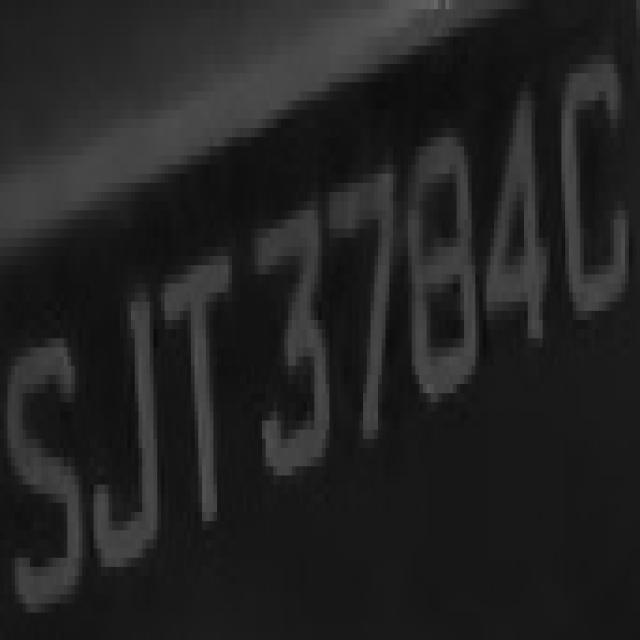3: (240, 174, 326, 503)
4: (475, 82, 554, 375)
7: (314, 137, 400, 476)
8: (396, 110, 486, 466)
C: (543, 55, 636, 366)
J: (86, 265, 172, 576)
S: (15, 283, 90, 631)
T: (157, 183, 251, 539)
